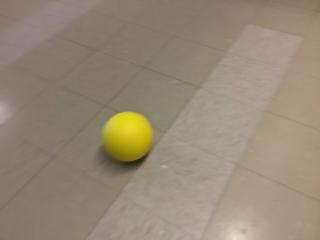power_cell: (101, 111, 152, 163)
